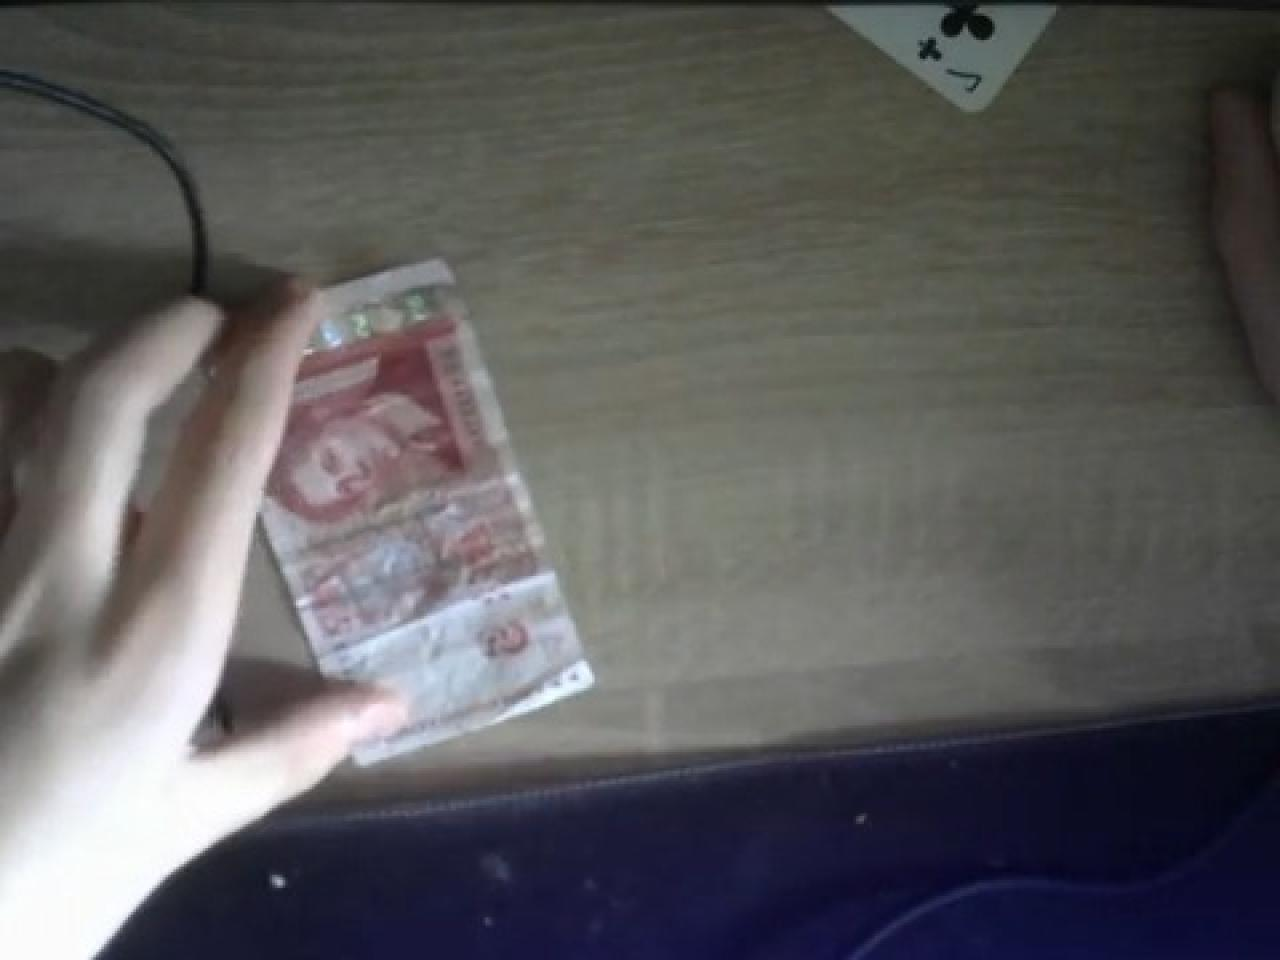5leva: (256, 253, 595, 762)
